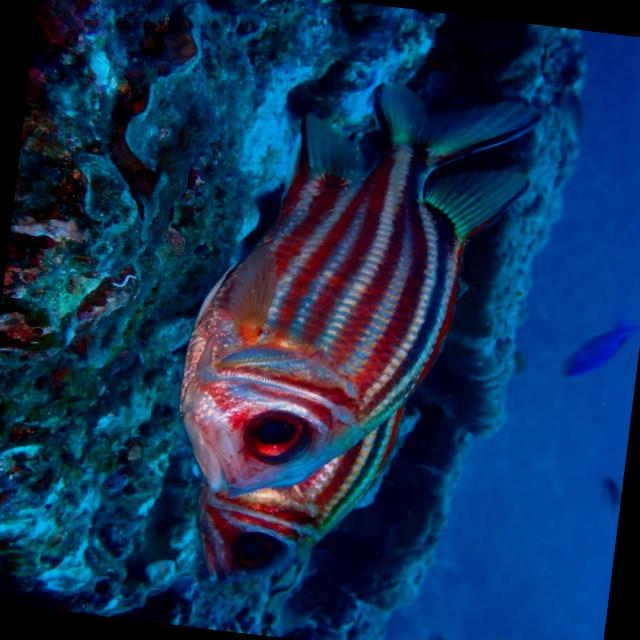Asker Baligi: (154, 57, 546, 614)
